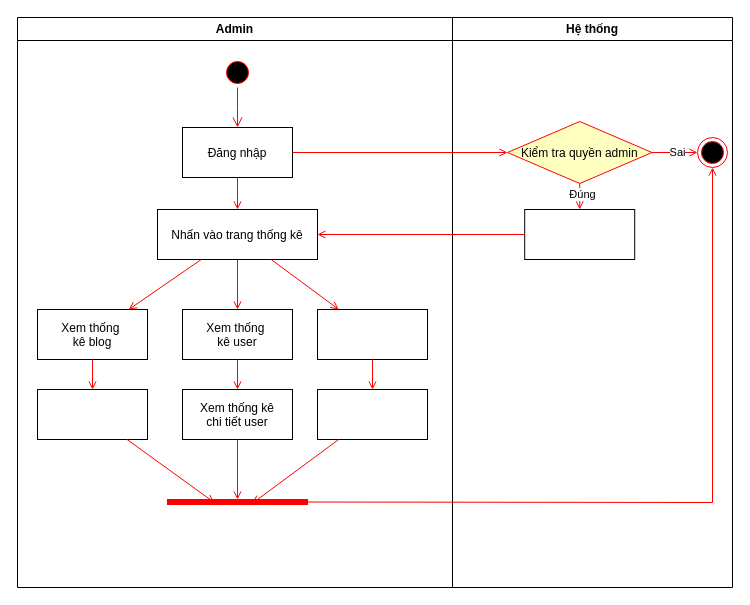
This 750x605 diagram has some shape labels left out. The shapes that lost their labels are listed below. From the top down, each one's centre as x and y in pixels, then its label:
At point 579,234: "Hiển thị thêm trang thống kê".
At point 372,334: "Xem thống kê sản phẩm".
At point 92,414: "Xem thống kê chi tiết blog".
At point 372,414: "Xem thống kê chi tiết sản phẩm".
